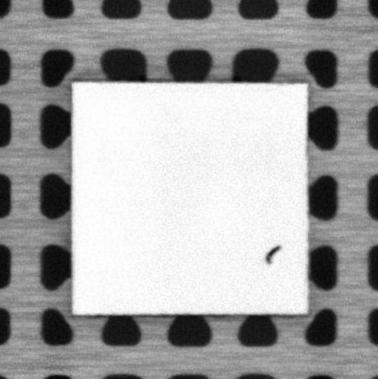DIE_INK: (265, 243, 283, 263)
